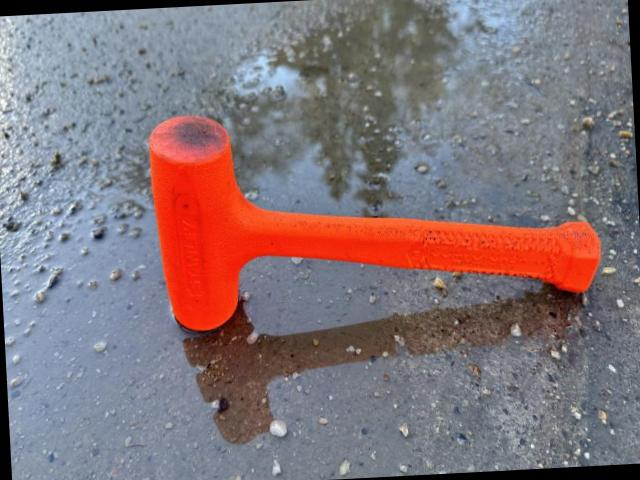hammer: (146, 93, 606, 330)
